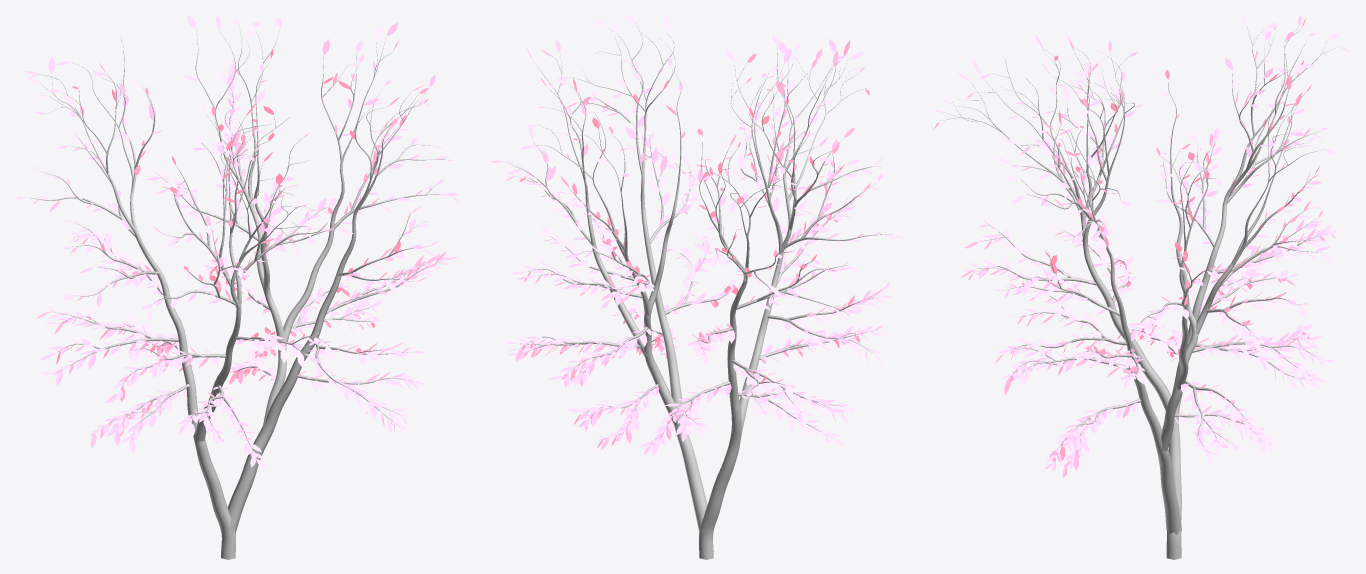
File: StratumTree.fbx
3 views of the same model, side by side, from view 1: azimuth 30°, elevation 25°; view 2: azimuth 150°, elevation 25°; view 3: azimuth 270°, elevation 25° (orthographic). The views are drawn at different scales.
Parts seen in each view (by area): view 1: Leaves, Tree; view 2: Leaves, Tree; view 3: Leaves, Tree.
Part boxes in pixels (<box>): Leaves: <box>15,14,460,469</box>; Tree: <box>28,27,444,559</box>; Leaves: <box>491,14,902,456</box>; Tree: <box>506,23,891,559</box>; Leaves: <box>933,14,1350,477</box>; Tree: <box>940,26,1338,559</box>.
Size of the model in its own units: 744 by 943 by 707.
